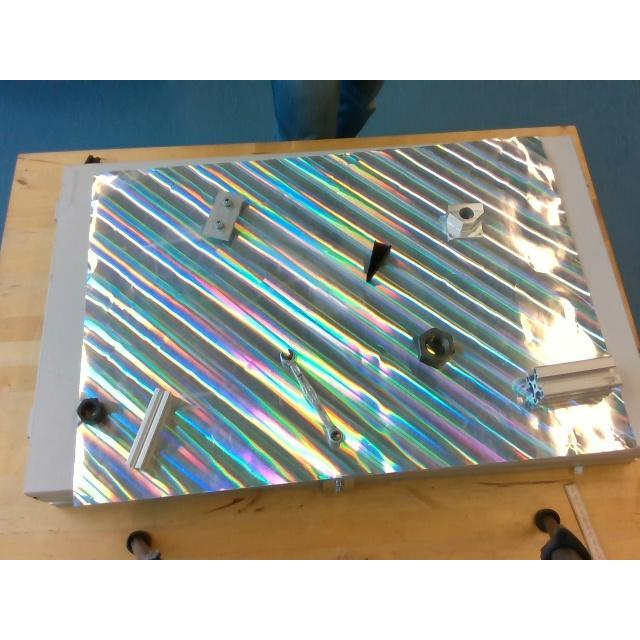F20_20_G: (127, 388, 169, 468)
M20: (77, 398, 105, 422)
M30: (416, 328, 454, 366)
S40_40_G: (524, 355, 620, 407)
Wrench: (279, 350, 343, 444)
